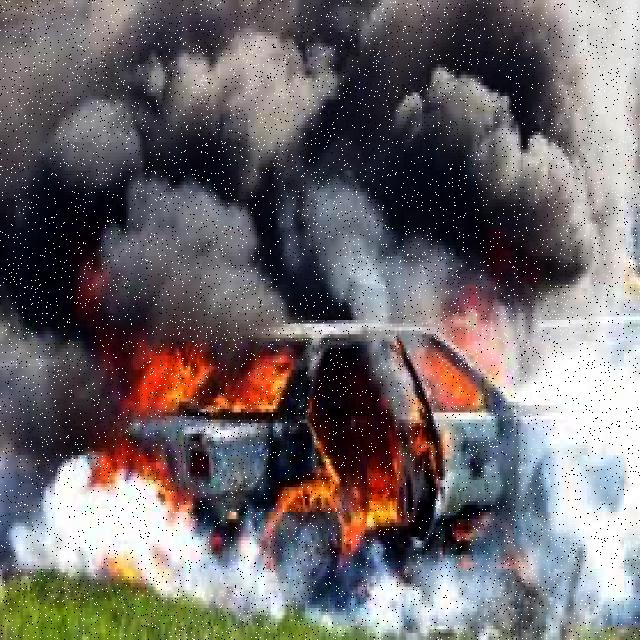fire: (91, 317, 282, 475), (310, 448, 452, 552)
smoke: (12, 7, 632, 308)
